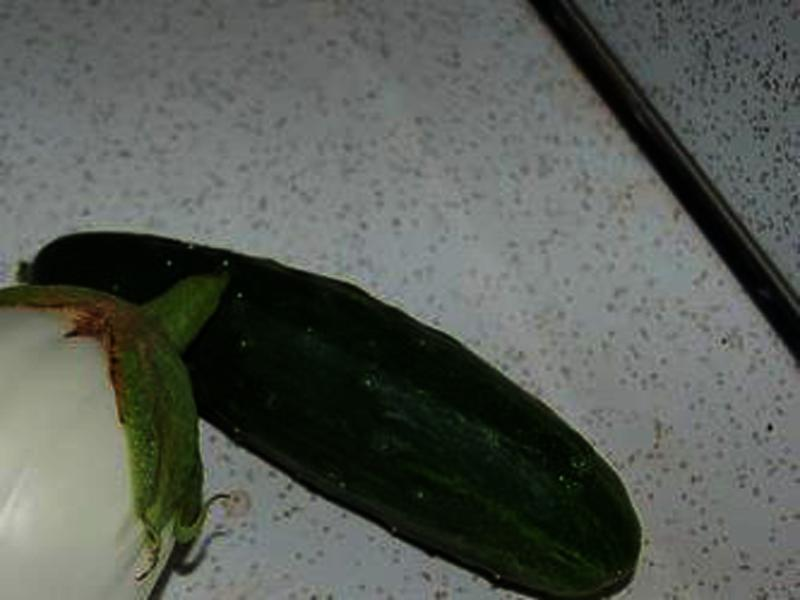Cucumber: (17, 234, 639, 600)
